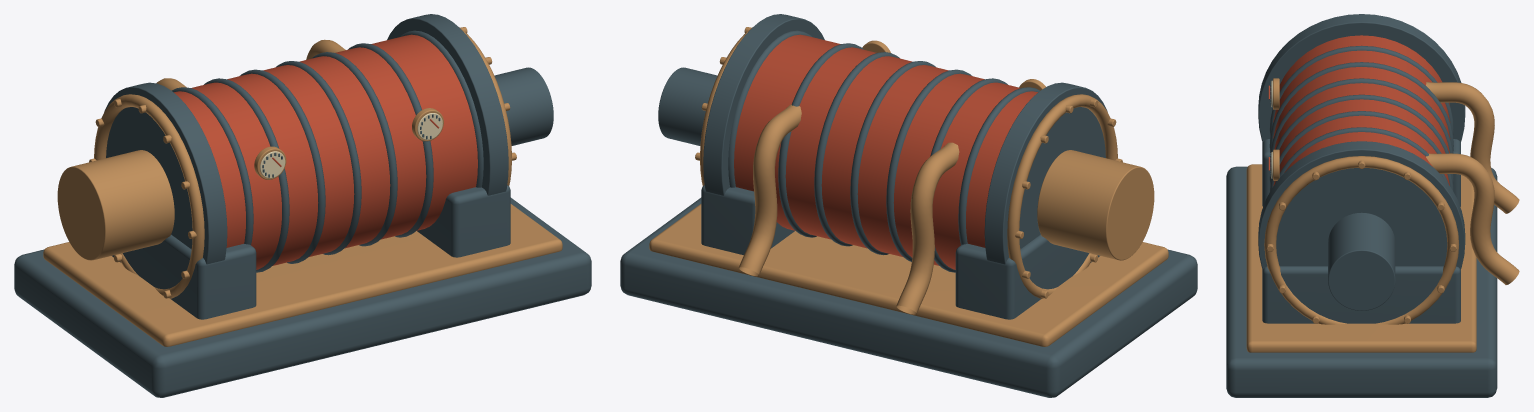
Rendered from Turbine.fbx.
3 views of the same model, side by side, from view 1: azimuth 30°, elevation 25°; view 2: azimuth 150°, elevation 25°; view 3: azimuth 270°, elevation 25° (orthographic). The views are drawn at different scales.
Visible parts, largest first — view 1: Turbine; view 2: Turbine; view 3: Turbine.
Part boxes in pixels (box(x1,y1,x2,y2)): Turbine: box(14, 14, 591, 397); Turbine: box(620, 14, 1197, 397); Turbine: box(1226, 14, 1519, 397).
Size of the model in its own units: 404 by 244 by 202.
